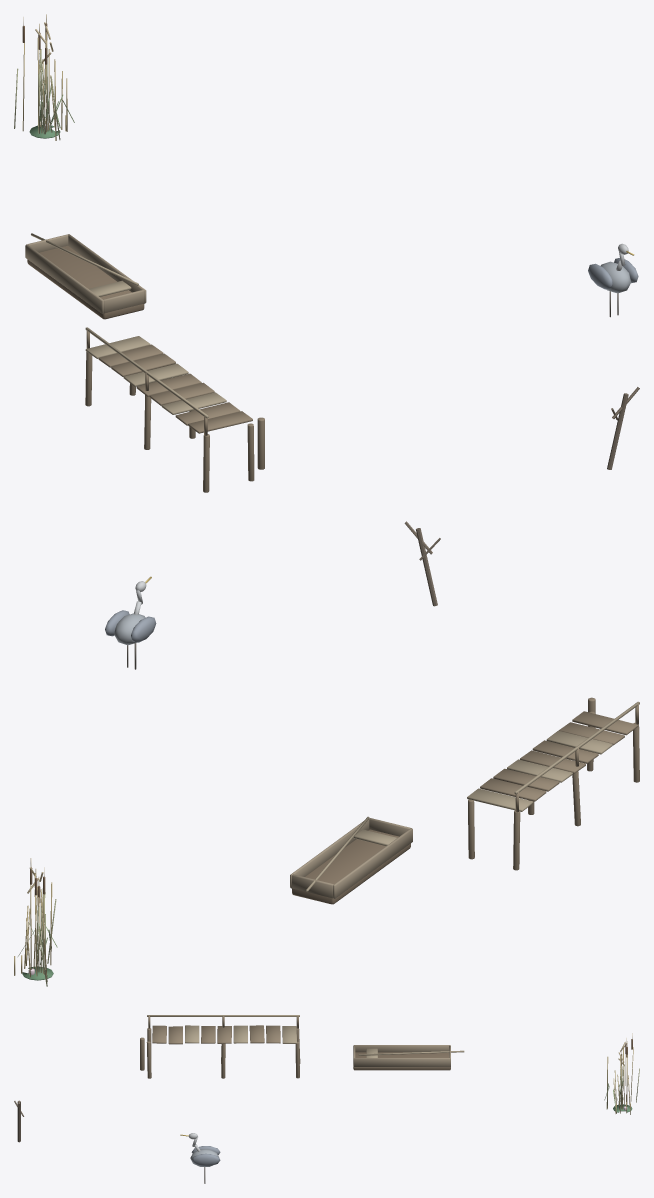
3 views of the same model, one above another, from view 1: azimuth 30°, elevation 25°; view 2: azimuth 150°, elevation 25°; view 3: azimuth 270°, elevation 25° (orthographic). The views are drawn at different scales.
Visible parts, largest first — view 1: puntHull, puntSide-1, puntSide1, jplank2, jplank8, jplank6, jplank5, jplank3, jplank1; view 2: puntHull, puntSide-1, puntSide1, jplank8, jplank0, jplank1, jplank6, jplank2, jplank3, jplank5, jplank4, jplank7; view 3: puntSide1, puntHull, puntSide-1, jrail, wingR, jplank2, jplank1, jplank3, jplank6, jplank7, jplank8, jplank0 (+2 smaller).
Part boxes in pixels (<box>): puntHull: <box>27,245,144,319</box>; puntSide-1: <box>25,244,103,313</box>; puntSide1: <box>68,234,146,303</box>; jplank2: <box>111,353,175,376</box>; jplank8: <box>188,411,252,433</box>; jplank6: <box>161,392,226,414</box>; jplank5: <box>149,382,214,405</box>; jplank3: <box>123,363,188,386</box>; jplank1: <box>98,344,163,367</box>; puntHull: <box>292,829,410,904</box>; puntSide-1: <box>333,828,412,898</box>; puntSide1: <box>290,818,369,888</box>; jplank8: <box>572,711,638,735</box>; jplank0: <box>467,788,533,811</box>; jplank1: <box>480,778,546,801</box>; jplank6: <box>546,730,612,754</box>; jplank2: <box>493,768,559,791</box>; jplank3: <box>507,759,572,782</box>; jplank5: <box>532,740,598,763</box>; jplank4: <box>520,750,585,773</box>; jplank7: <box>559,722,624,745</box>; puntSide1: <box>353,1058,450,1067</box>; puntHull: <box>353,1052,450,1070</box>; puntSide-1: <box>353,1045,450,1052</box>; jrail: <box>147,1015,299,1016</box>; wingR: <box>192,1153,220,1166</box>; jplank2: <box>249,1025,264,1043</box>; jplank1: <box>266,1025,280,1043</box>; jplank3: <box>233,1025,247,1043</box>; jplank6: <box>185,1025,199,1043</box>; jplank7: <box>168,1026,182,1044</box>; jplank8: <box>152,1025,166,1043</box>; jplank0: <box>282,1026,296,1043</box>.
Bounding box in the file's own units: 14.93 × 4.45 × 26.97.
